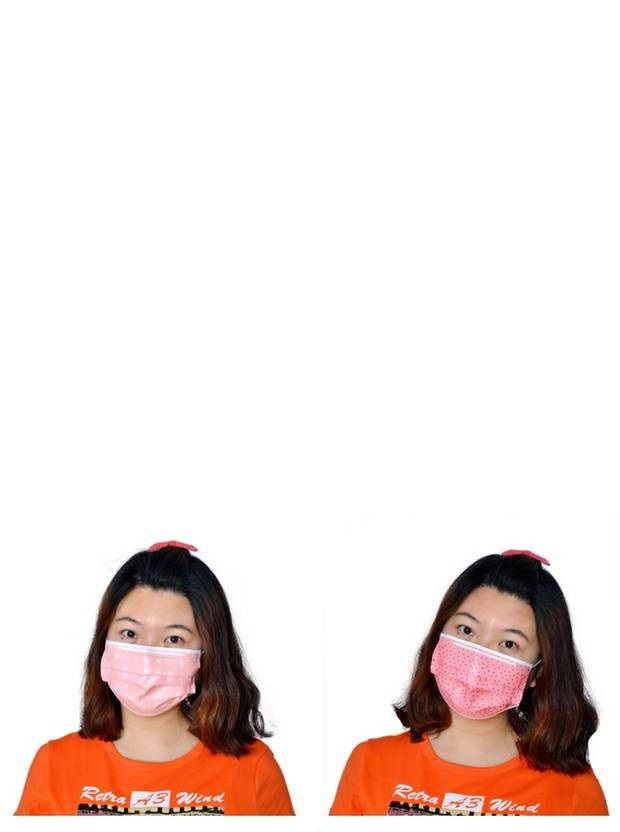face_mask: (434, 582, 536, 720), (105, 582, 199, 718)
